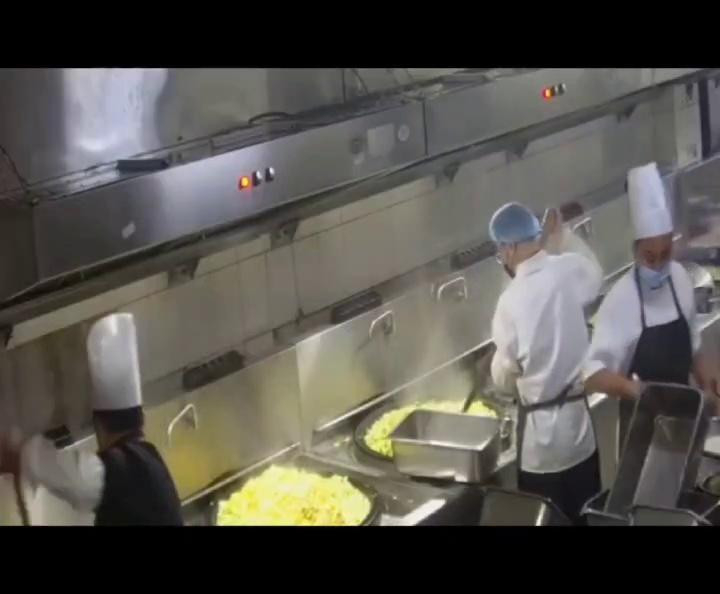mask: (640, 249, 672, 286)
